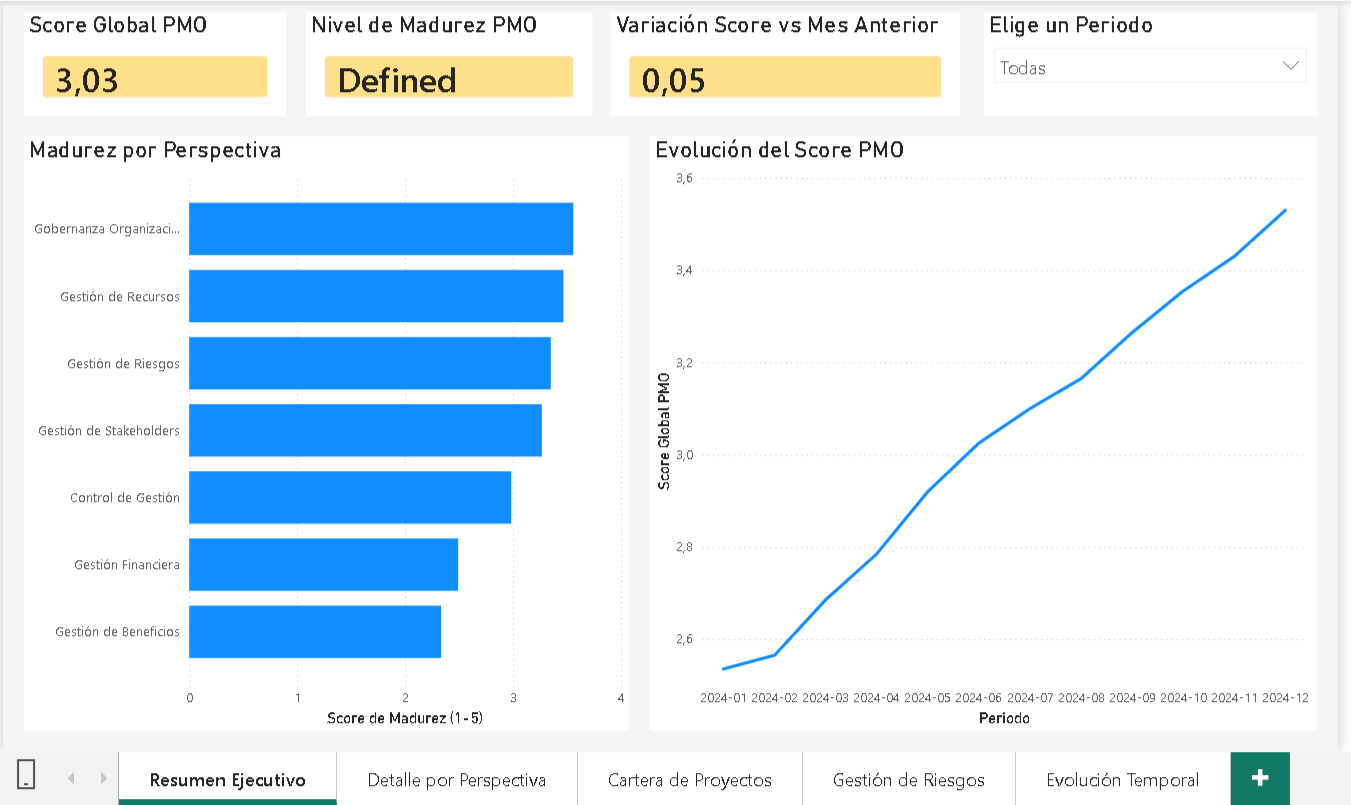

Layout of this report page (visuals, bound fields, positions):
{"tool":"powerbi","page":{"name":"Resumen Ejecutivo","canvas":[1280,720],"ordinal":0},"visuals":[{"type":"cardVisual","title":"Score Global PMO","fields":{"Data":["public fact_madurez_pmo.Score Global PMO"]},"box":[19.7,9.9,251.6,100.3],"z":0},{"type":"cardVisual","title":" Nivel de Madurez PMO","fields":{"Data":["public fact_madurez_pmo.Nombre Nivel Global"]},"box":[291.1,9.9,274.6,100.3],"z":1000},{"type":"lineChart","title":"Evolución del Score PMO","fields":{"Category":["public dim_tiempo.periodo_label"],"Y":["public fact_madurez_pmo.Score Global PMO"]},"box":[620,130,640,570],"z":2000},{"type":"clusteredBarChart","title":"Madurez por Perspectiva","fields":{"Category":["public dim_perspectiva.nombre"],"Y":["Avg(public fact_madurez_pmo.score_perspectiva)"]},"box":[20,130,580,570],"z":3000},{"type":"slicer","title":"Elige un Periodo","fields":{"Values":["public dim_tiempo.periodo_label"]},"box":[940.7,9.9,319,100.3],"z":4000},{"type":"cardVisual","title":"Variación Score vs Mes Anterior","fields":{"Data":["_Medidas.Variación Score PMO"]},"box":[582.2,9.9,335.5,100.3],"z":5000}]}

Visuals, with their boxes on the page's 1280x720 design canvas (x1, y1, x2, y2). These are canvas units, not pixel positions in the 1351x805 screenshot, which may show the page scaled, cropped or inside an application window:
"Score Global PMO" cardVisual: detection(20, 10, 271, 110)
" Nivel de Madurez PMO" cardVisual: detection(291, 10, 566, 110)
"Evolución del Score PMO" lineChart: detection(620, 130, 1260, 700)
"Madurez por Perspectiva" clusteredBarChart: detection(20, 130, 600, 700)
"Elige un Periodo" slicer: detection(941, 10, 1260, 110)
"Variación Score vs Mes Anterior" cardVisual: detection(582, 10, 918, 110)
